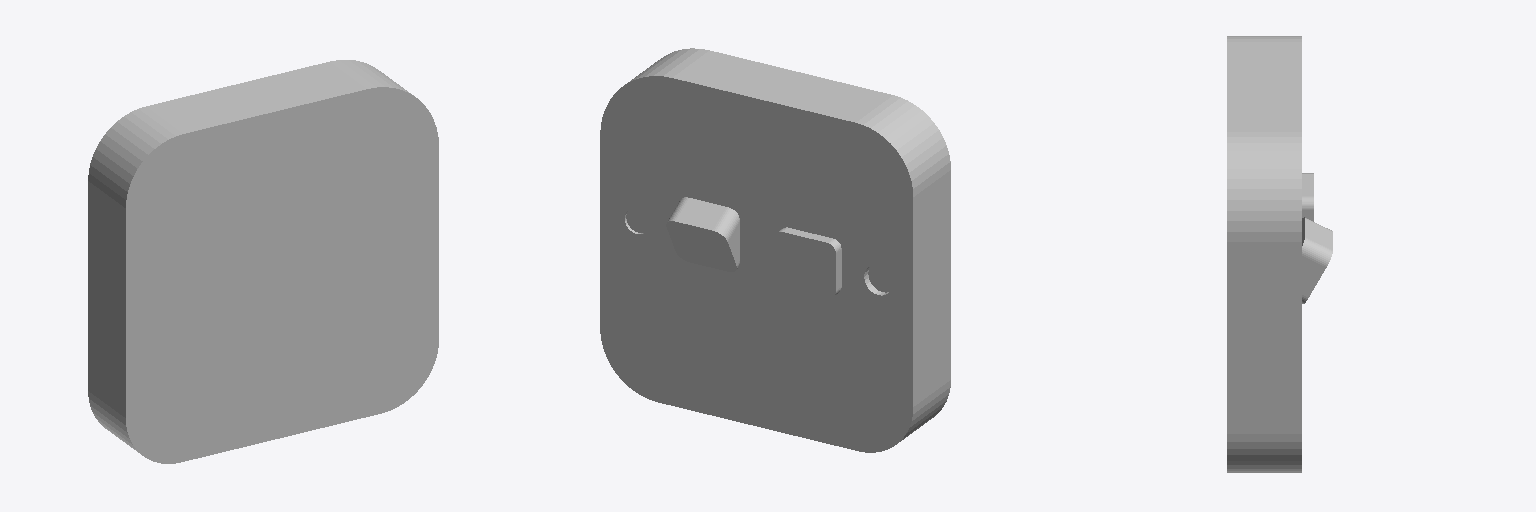
File: socket.obj
3 views of the same model, side by side, from view 1: azimuth 30°, elevation 25°; view 2: azimuth 150°, elevation 25°; view 3: azimuth 270°, elevation 25° (orthographic).
Parts seen in each view (by area): view 1: skpC0DD_001; view 2: skpC0DD_001; view 3: skpC0DD_001.
Boxes of the visible parts, box(x1,y1,x2,y2) form: skpC0DD_001: box(88, 60, 438, 463); skpC0DD_001: box(600, 48, 950, 452); skpC0DD_001: box(1227, 36, 1332, 472).
Bounding box in the file's own units: 121 × 122 × 35.43.